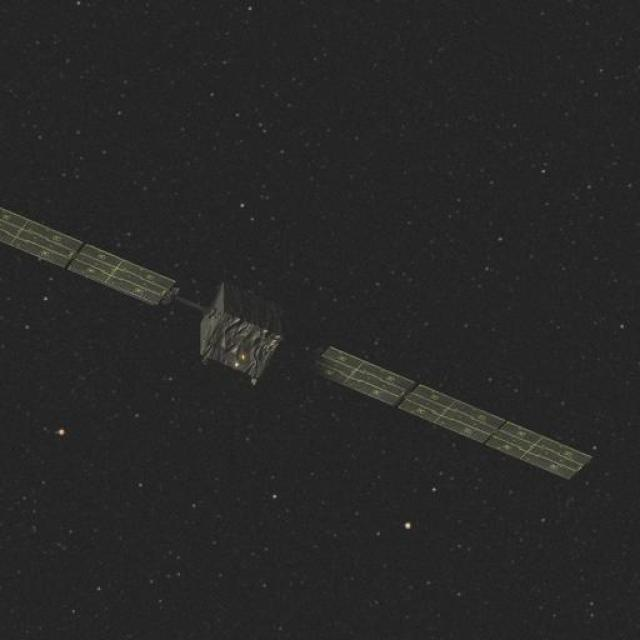smart_1: (35, 204, 440, 436)
